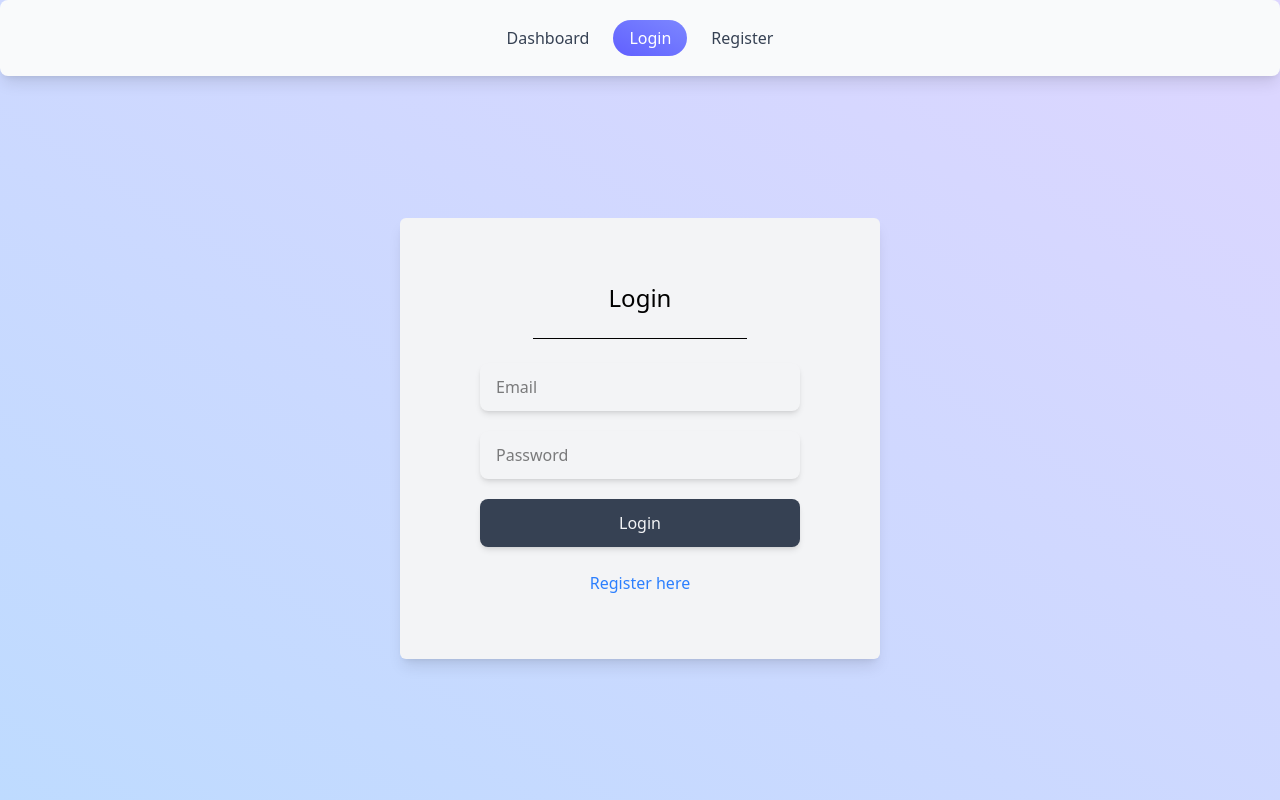
visiting login route › guest attempts to login, server is down
Expected: the heading "Login" is shown, [608, 280, 671, 314]
Type "test@email.com" into the field with placeholder "Email" at coordinates (640, 386), box [480, 362, 800, 410]
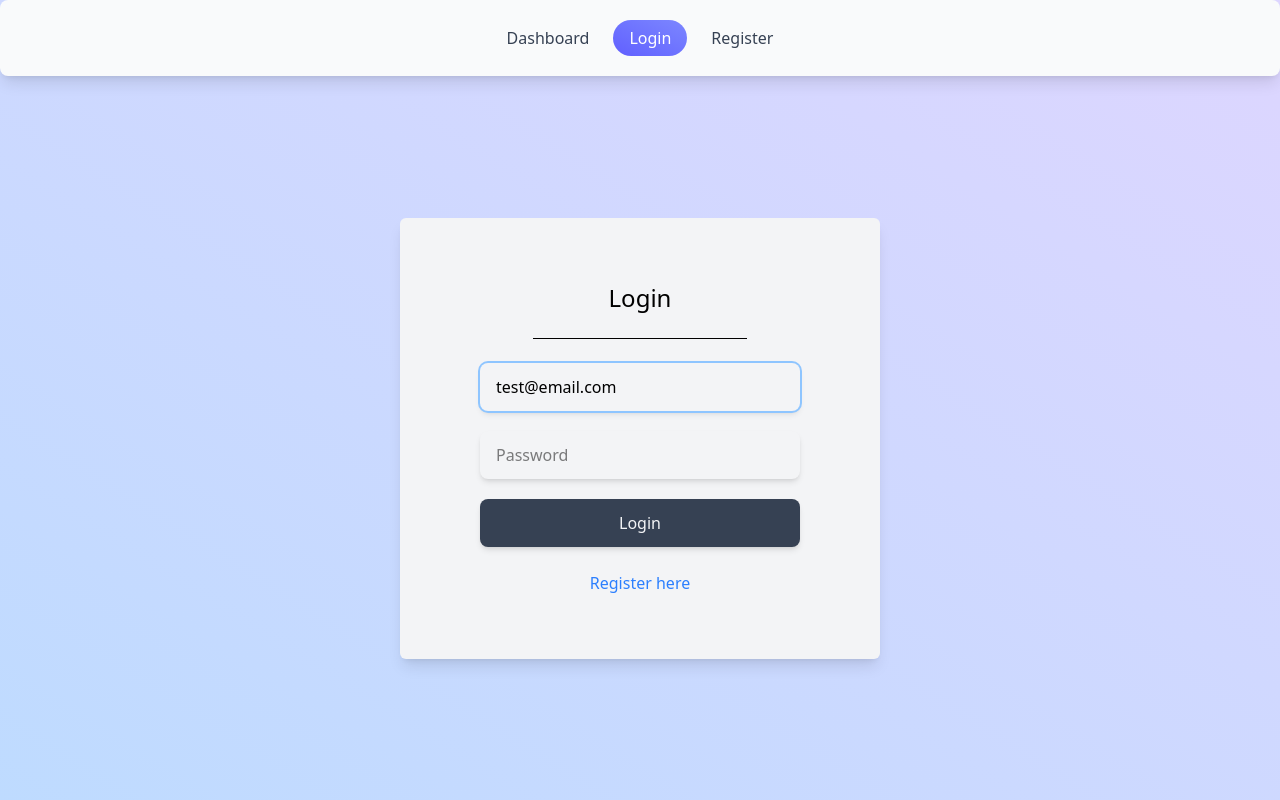
Type "password" into the password field with placeholder "Password" at coordinates (640, 454), box [480, 430, 800, 478]
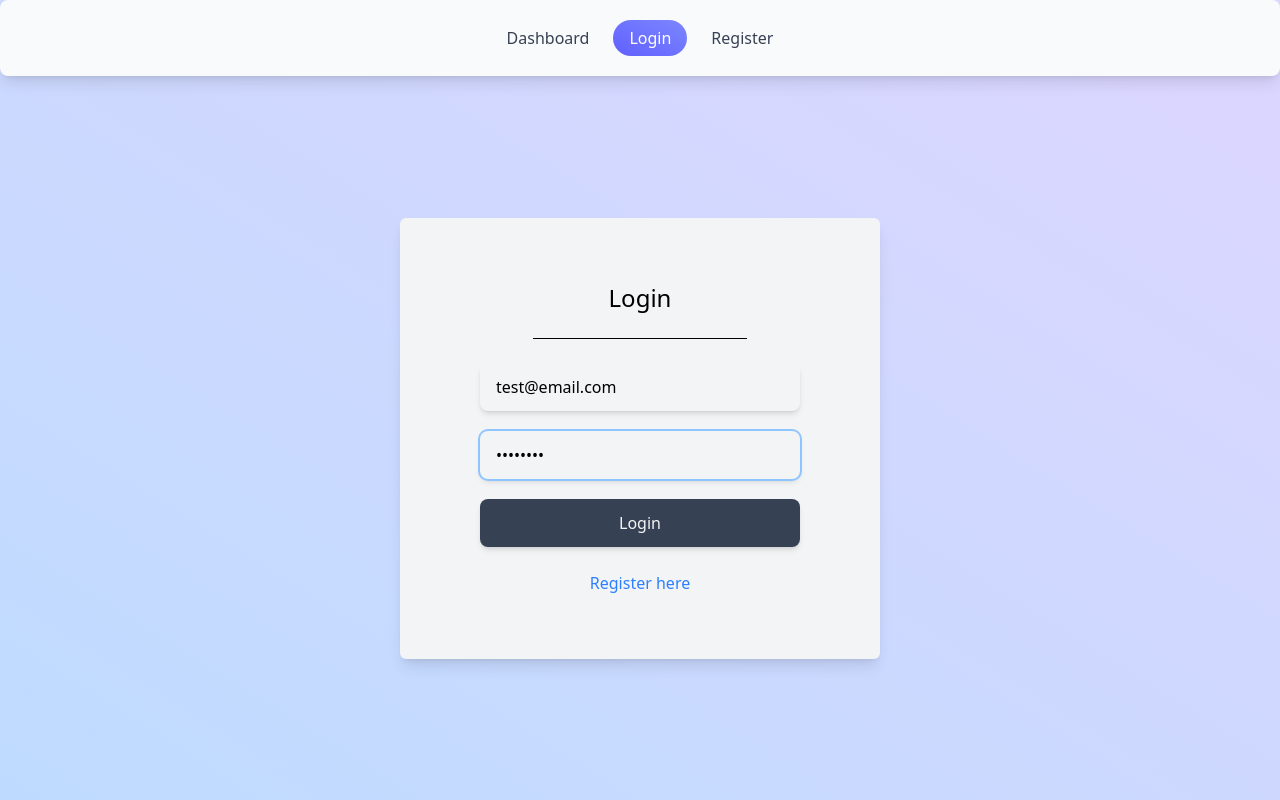
Submit the form
Click the button "Login" at coordinates (640, 522), box [480, 498, 800, 546]
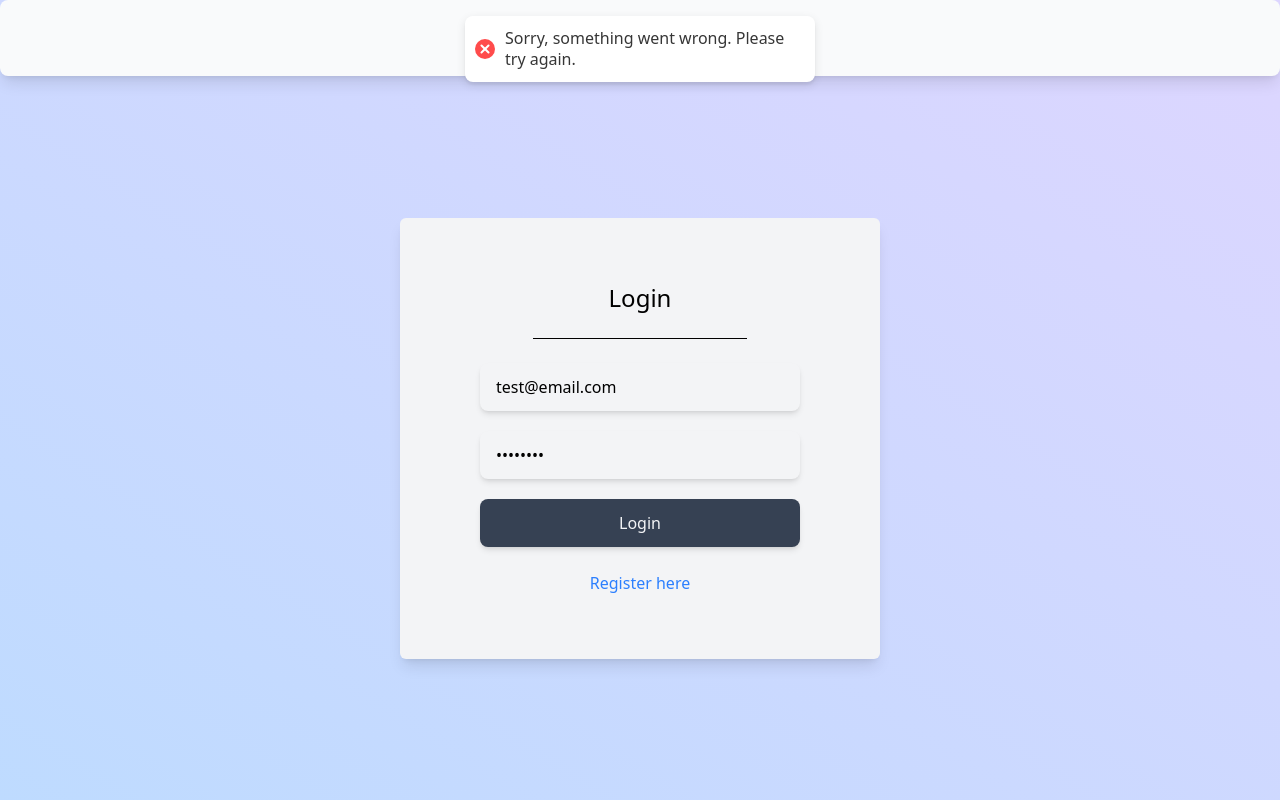
Expected: the text "Sorry, something went wrong. Please try again." is shown, [505, 28, 795, 70]
